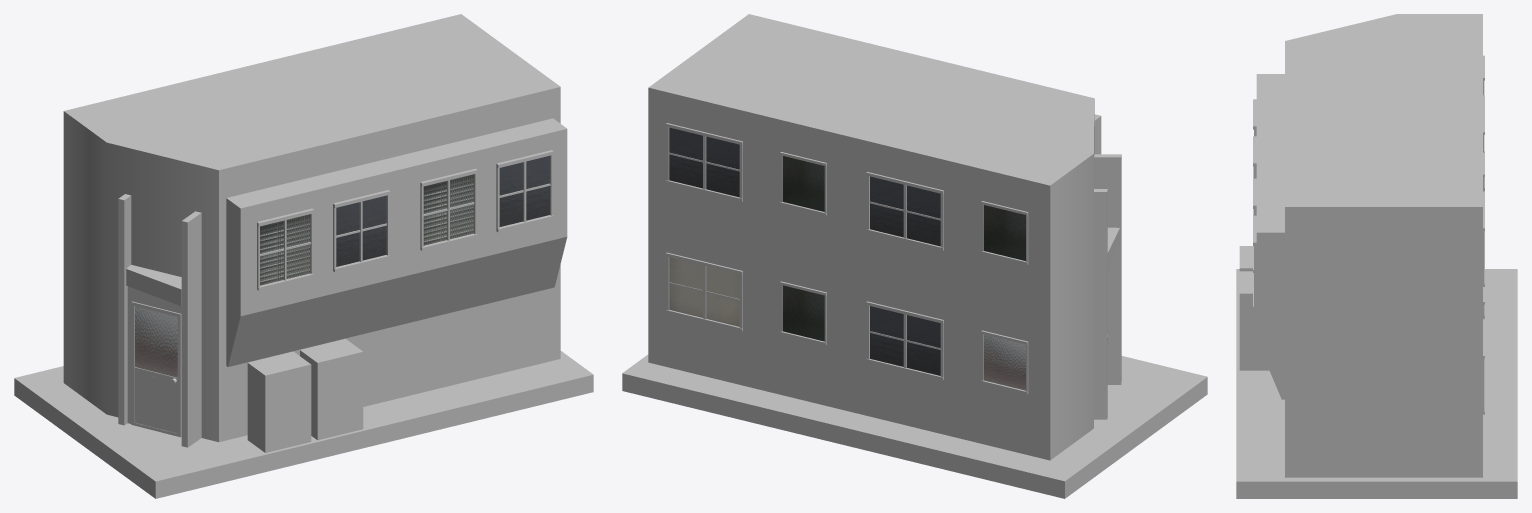
The model's file is apart_high_1a.fbx.
The picture shows the model from 3 angles, left to right: view 1: azimuth 30°, elevation 25°; view 2: azimuth 150°, elevation 25°; view 3: azimuth 270°, elevation 25°; orthographic projection.
Parts seen in each view (by area): view 1: apart_high_1a; view 2: apart_high_1a; view 3: apart_high_1a.
Boxes of the visible parts, x1=… form: apart_high_1a: x1=14, y1=14, x2=593, y2=498; apart_high_1a: x1=622, y1=14, x2=1207, y2=498; apart_high_1a: x1=1236, y1=14, x2=1517, y2=498.
Bounding box in the file's own units: 7.92 × 5 × 4.43.
